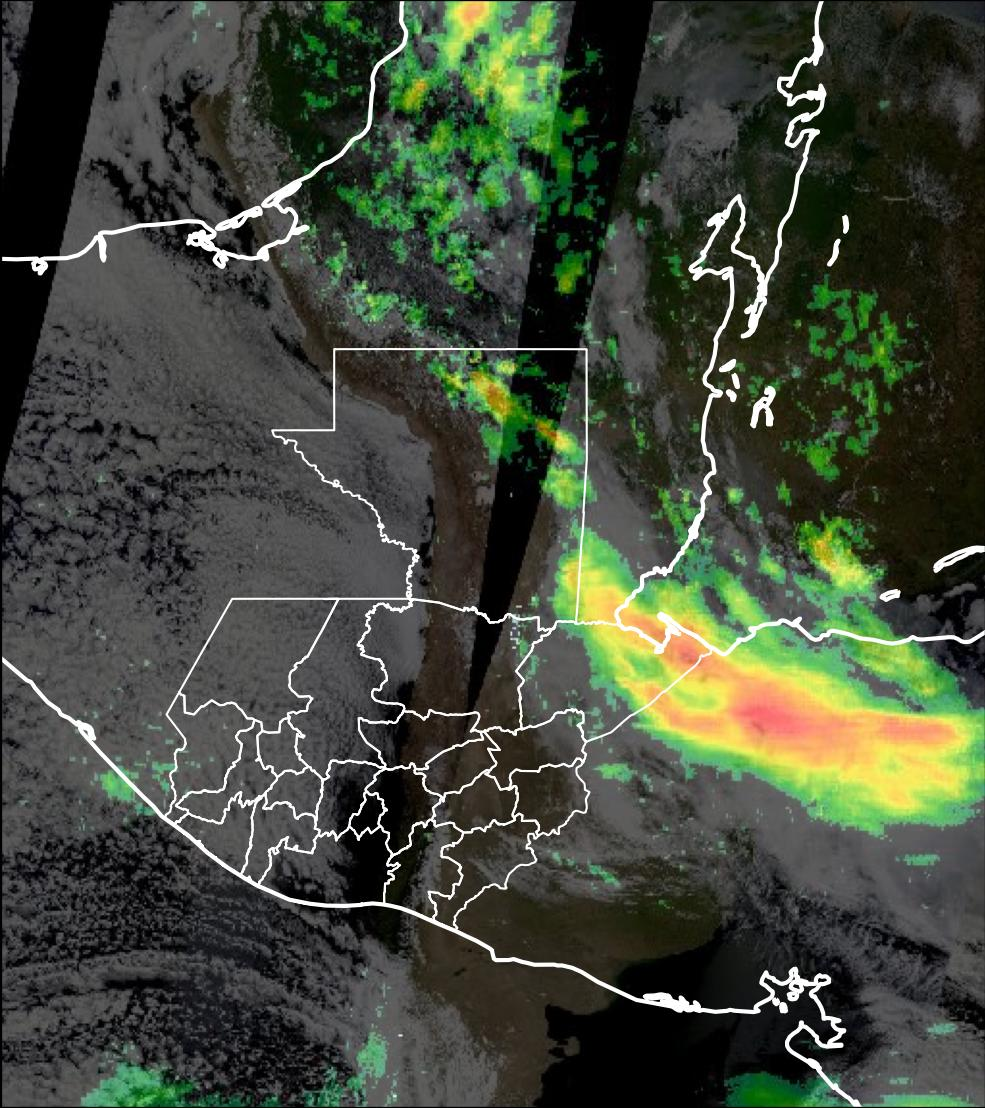precipitacion: (624, 607, 967, 829)
